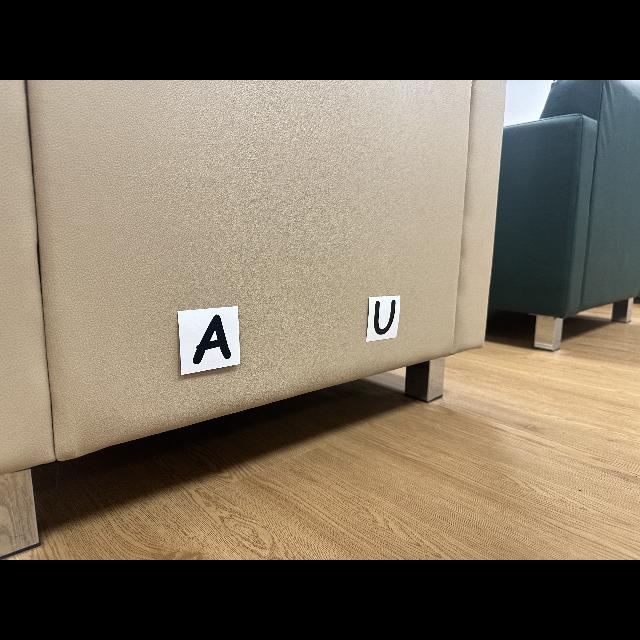A: (192, 315, 231, 364)
U: (374, 300, 395, 335)
